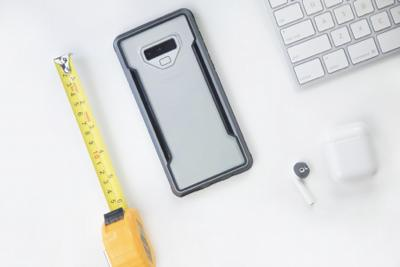Mobile Phone: (111, 7, 253, 197)
